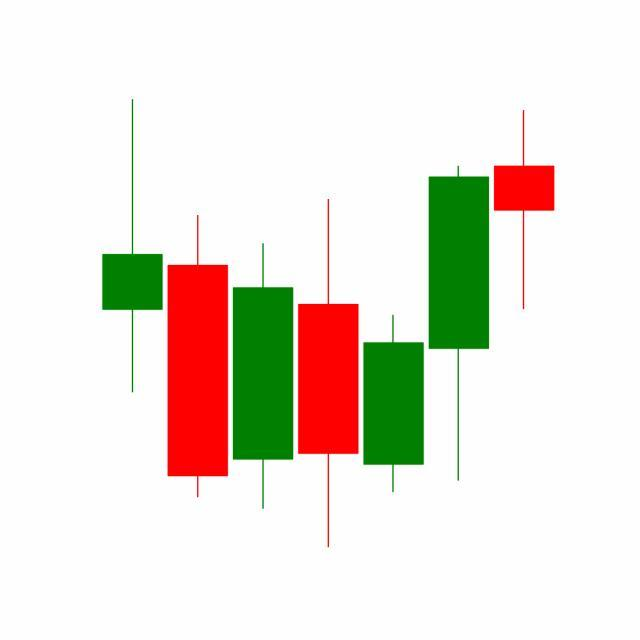Hikkake Pattern: (165, 161, 492, 548)
